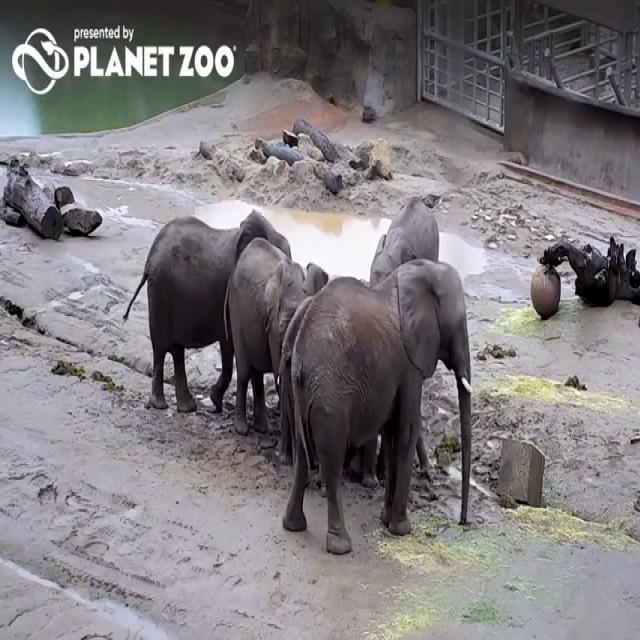Elephant: (279, 256, 473, 553), (121, 208, 292, 413), (223, 235, 328, 436)
